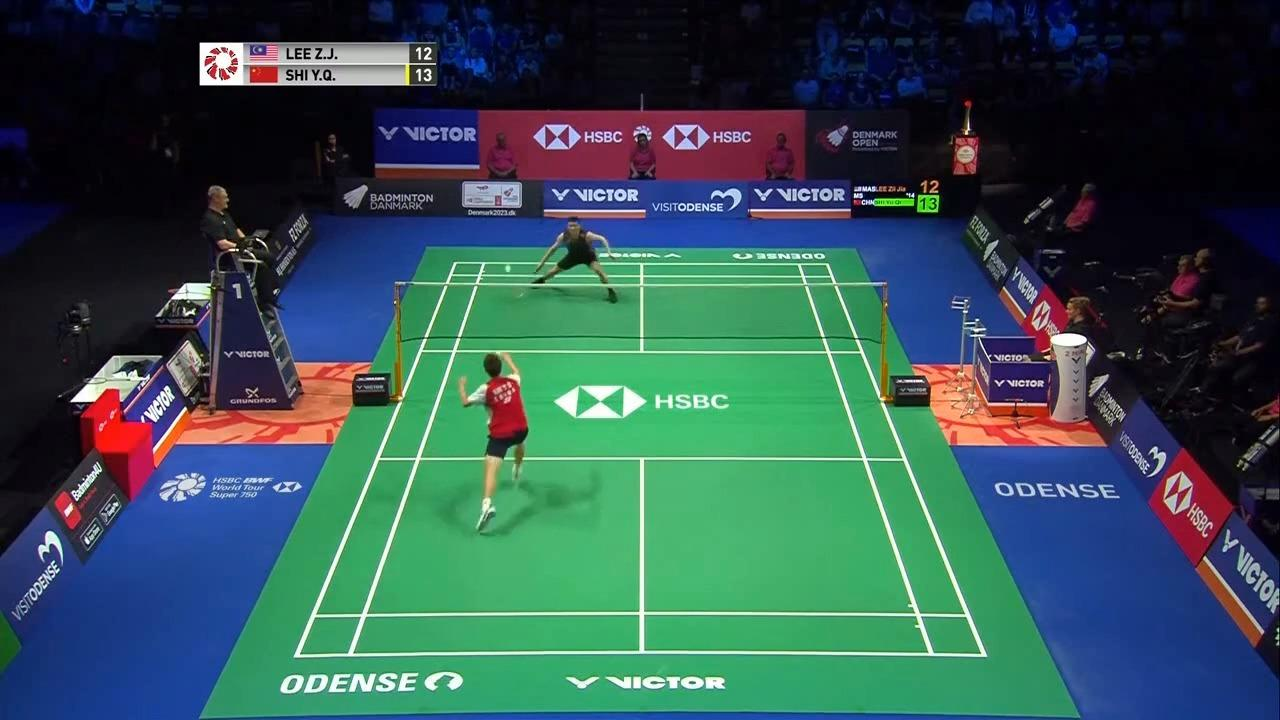shuttle: (503, 263, 513, 274)
